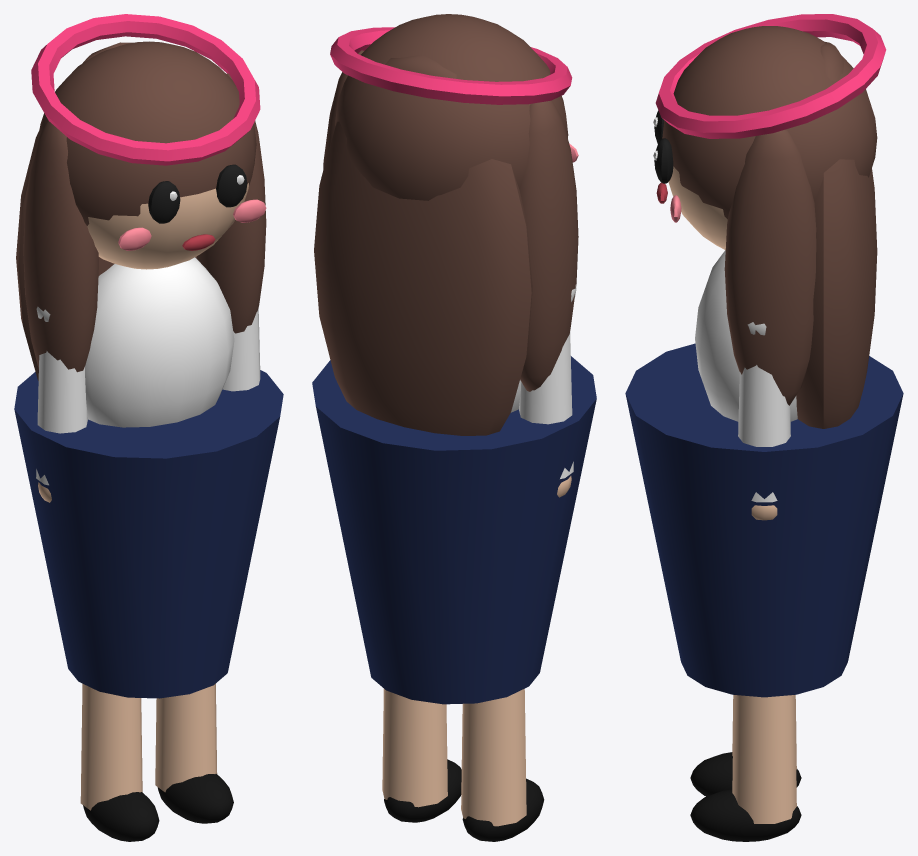
The model's file is dina_girl_long.glb.
The picture shows the model from 3 angles, left to right: view 1: azimuth 30°, elevation 25°; view 2: azimuth 150°, elevation 25°; view 3: azimuth 270°, elevation 25°; orthographic projection. The views are drawn at different scales.
Parts seen in each view (by area): view 1: Body.003, Leg_R.003, Leg_L.003, Arm_R.003, Arm_L.003; view 2: Body.003, Leg_R.003, Leg_L.003, Arm_R.003; view 3: Body.003, Leg_L.003, Arm_L.003, Leg_R.003.
Part boxes in pixels (x1,y1,x2,y2): Body.003: (14,14,283,698); Leg_R.003: (80,683,159,841); Leg_L.003: (155,683,233,823); Arm_R.003: (36,306,87,502); Arm_L.003: (222,308,260,391); Body.003: (312,14,596,704); Leg_R.003: (461,689,544,841); Leg_L.003: (382,688,461,822); Arm_R.003: (519,285,576,497); Body.003: (625,14,903,697); Leg_L.003: (690,695,801,841); Arm_L.003: (738,322,790,520); Leg_R.003: (690,695,801,796).
Bounding box in the file's own units: 0.4296 × 1.33 × 0.4296.
